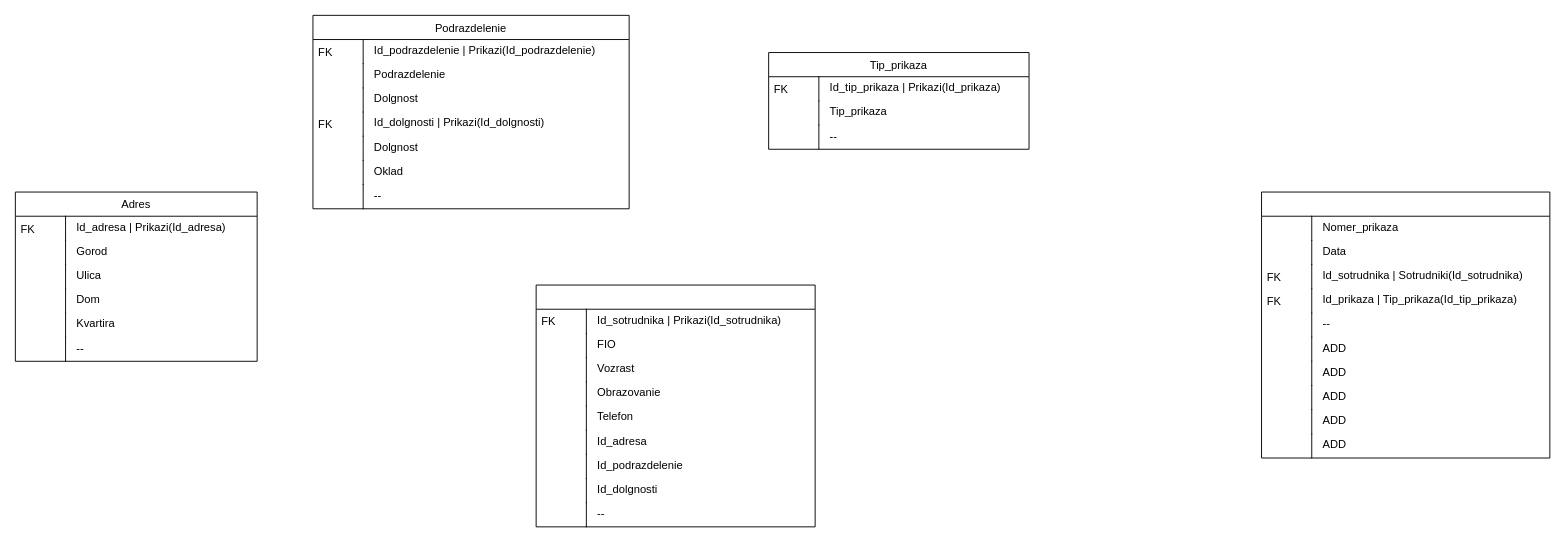
Image size: 1565x542. Some labels were removed from this diagram. The shapes that lost their labels are listed below. From the top down, each one's box as (x1, y1, x2, y2) in pixels, then its label:
(1261, 191, 1550, 458): Prikazi
(535, 284, 815, 527): Sotrudniki
